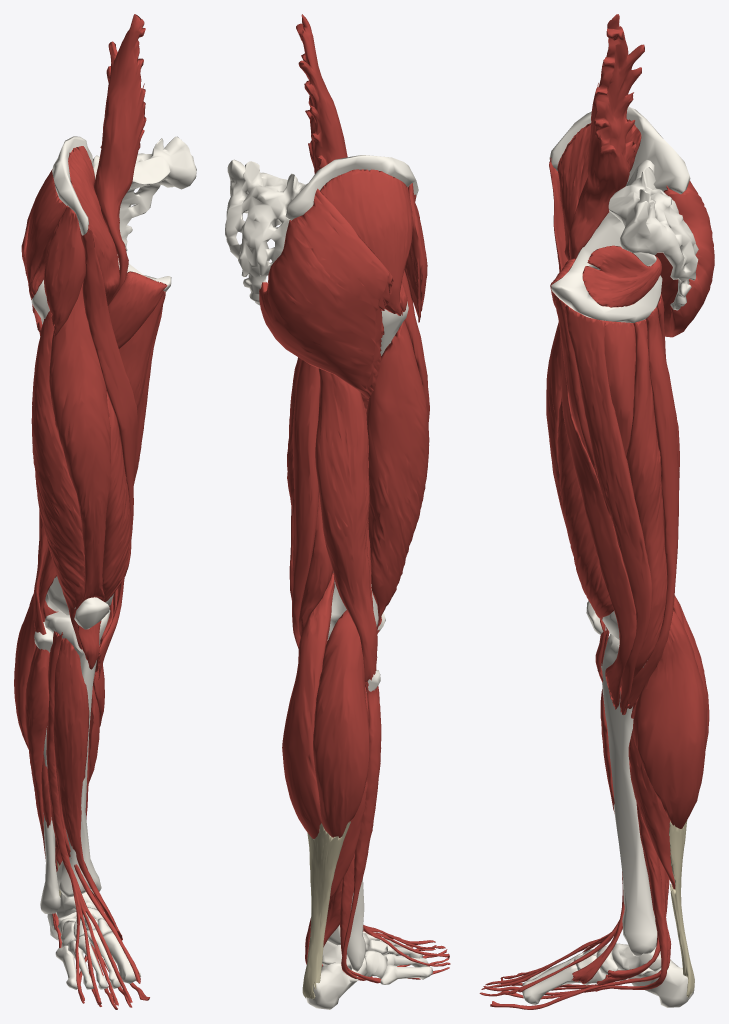
3 renders of one model, left to right at view 1: azimuth 30°, elevation 25°; view 2: azimuth 150°, elevation 25°; view 3: azimuth 270°, elevation 25°, orthographic. The views are drawn at different scales.
Parts seen in each view (by area): view 1: s0, s11, s12, s9, s23, s10, s24, s13, s4, s8, s26, s15 (+10 smaller); view 2: s1, s28, s0, s12, s20, s2, s21, s9, s30, s26, s22, s4 (+5 smaller); view 3: s0, s28, s19, s9, s22, s10, s21, s13, s1, s6, s18, s33 (+10 smaller).
Boxes of the visible parts, bbox=[...] form: s0: bbox=[31, 136, 196, 989]; s11: bbox=[49, 282, 110, 669]; s12: bbox=[31, 311, 84, 649]; s9: bbox=[94, 14, 146, 305]; s23: bbox=[53, 638, 122, 940]; s10: bbox=[79, 224, 137, 679]; s24: bbox=[46, 631, 132, 1005]; s13: bbox=[102, 391, 131, 602]; s4: bbox=[44, 205, 85, 336]; s8: bbox=[68, 146, 119, 305]; s26: bbox=[25, 647, 92, 945]; s15: bbox=[108, 271, 167, 348]; s1: bbox=[259, 188, 393, 398]; s28: bbox=[282, 573, 369, 838]; s0: bbox=[225, 155, 432, 1009]; s12: bbox=[366, 320, 429, 629]; s20: bbox=[315, 368, 377, 683]; s2: bbox=[320, 169, 412, 315]; s21: bbox=[292, 360, 319, 648]; s9: bbox=[296, 14, 347, 173]; s30: bbox=[302, 821, 350, 999]; s26: bbox=[341, 681, 381, 980]; s22: bbox=[287, 357, 332, 636]; s4: bbox=[404, 183, 427, 322]; s0: bbox=[522, 107, 698, 1007]; s28: bbox=[633, 595, 709, 828]; s19: bbox=[564, 303, 652, 714]; s9: bbox=[569, 14, 644, 259]; s22: bbox=[626, 319, 667, 678]; s10: bbox=[549, 157, 636, 709]; s21: bbox=[627, 307, 679, 708]; s13: bbox=[557, 397, 613, 665]; s1: bbox=[654, 180, 714, 337]; s6: bbox=[582, 245, 661, 307]; s18: bbox=[593, 320, 635, 478]; s33: bbox=[479, 801, 668, 999].
Size of the model in its own units: 217 by 1111 by 233.
